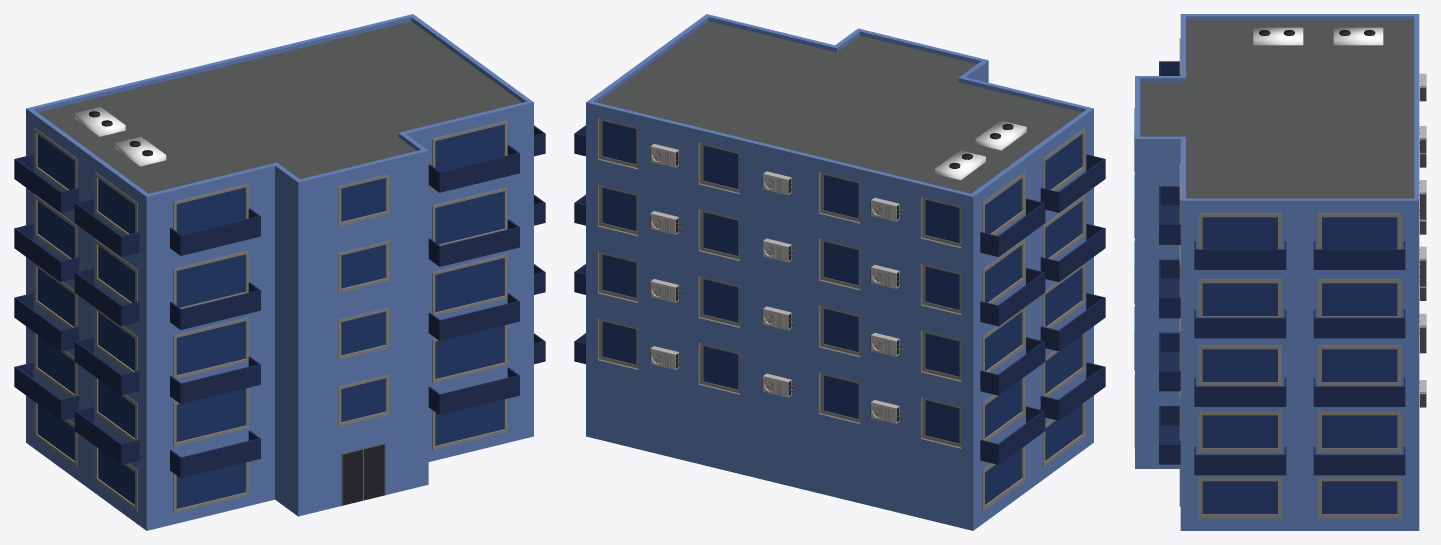
File: Building_14.fbx
The picture shows the model from 3 angles, left to right: view 1: azimuth 30°, elevation 25°; view 2: azimuth 150°, elevation 25°; view 3: azimuth 270°, elevation 25°; orthographic projection.
Parts seen in each view (by area): view 1: Building_14; view 2: Building_14; view 3: Building_14.
Boxes of the visible parts, x1,y1,x2,y2 form: Building_14: [14, 14, 545, 530]; Building_14: [574, 14, 1105, 530]; Building_14: [1134, 14, 1426, 530].
Bounding box in the file's own units: 1715 × 1301 × 1036.
